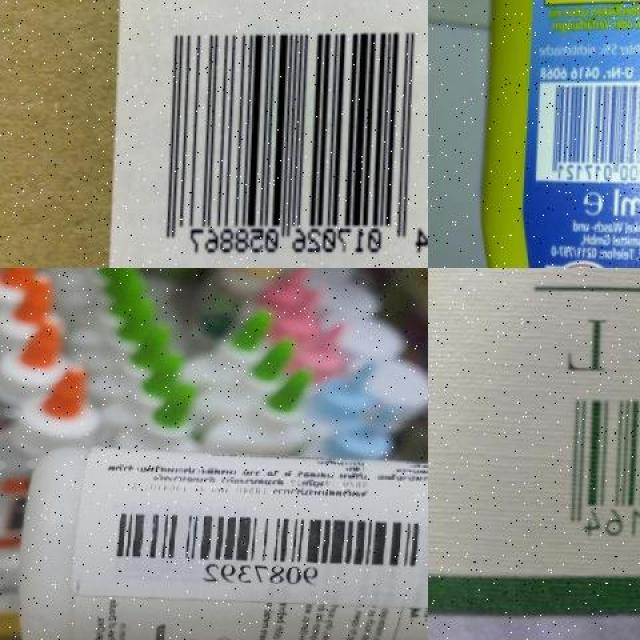Barcode: (155, 4, 428, 267), (101, 507, 428, 584), (549, 382, 640, 558), (537, 78, 640, 182)
